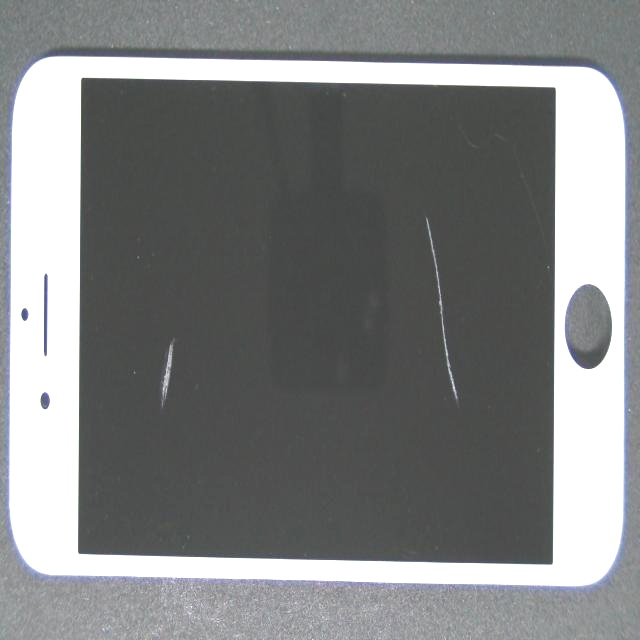scratch: (194, 0, 635, 404), (77, 214, 231, 640)
